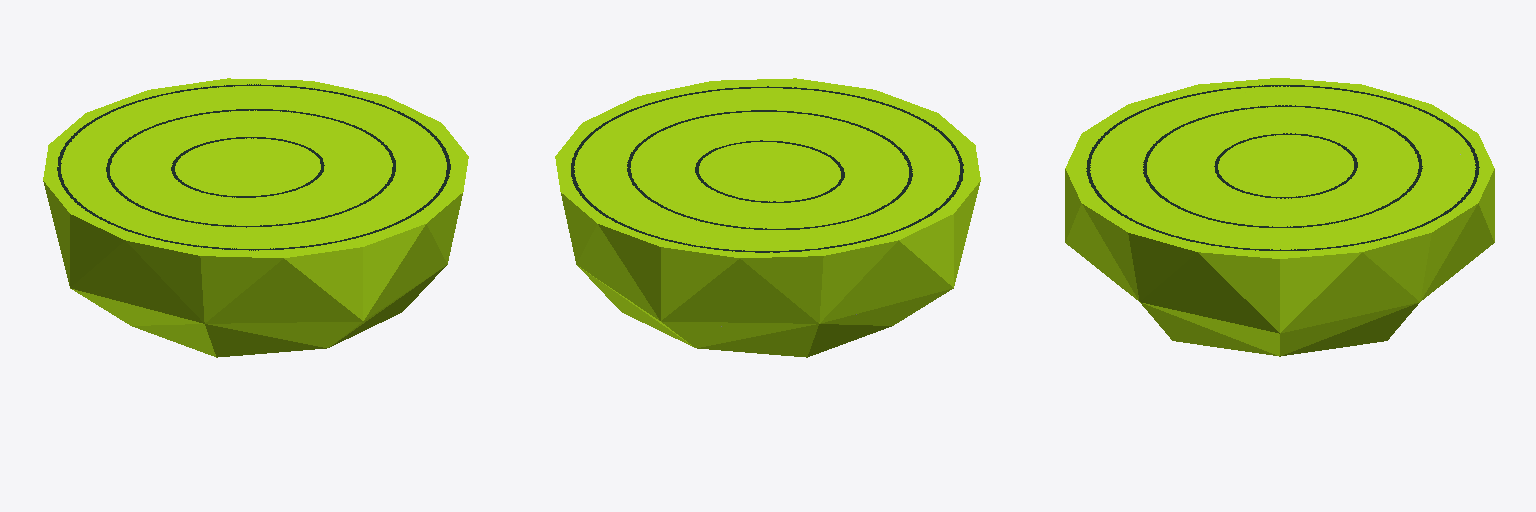
The picture shows the model from 3 angles: view 1: azimuth 30°, elevation 25°; view 2: azimuth 150°, elevation 25°; view 3: azimuth 270°, elevation 25°; orthographic projection.
Parts seen in each view (by area): view 1: 球.001; view 2: 球.001; view 3: 球.001.
Part boxes in pixels (x1,y1,x2,y2): 球.001: (43, 78, 468, 357); 球.001: (555, 78, 980, 357); 球.001: (1065, 78, 1494, 356).
Bounding box in the file's own units: 2 × 0.9 × 2.
Materials: 1 (1 with a texture image).